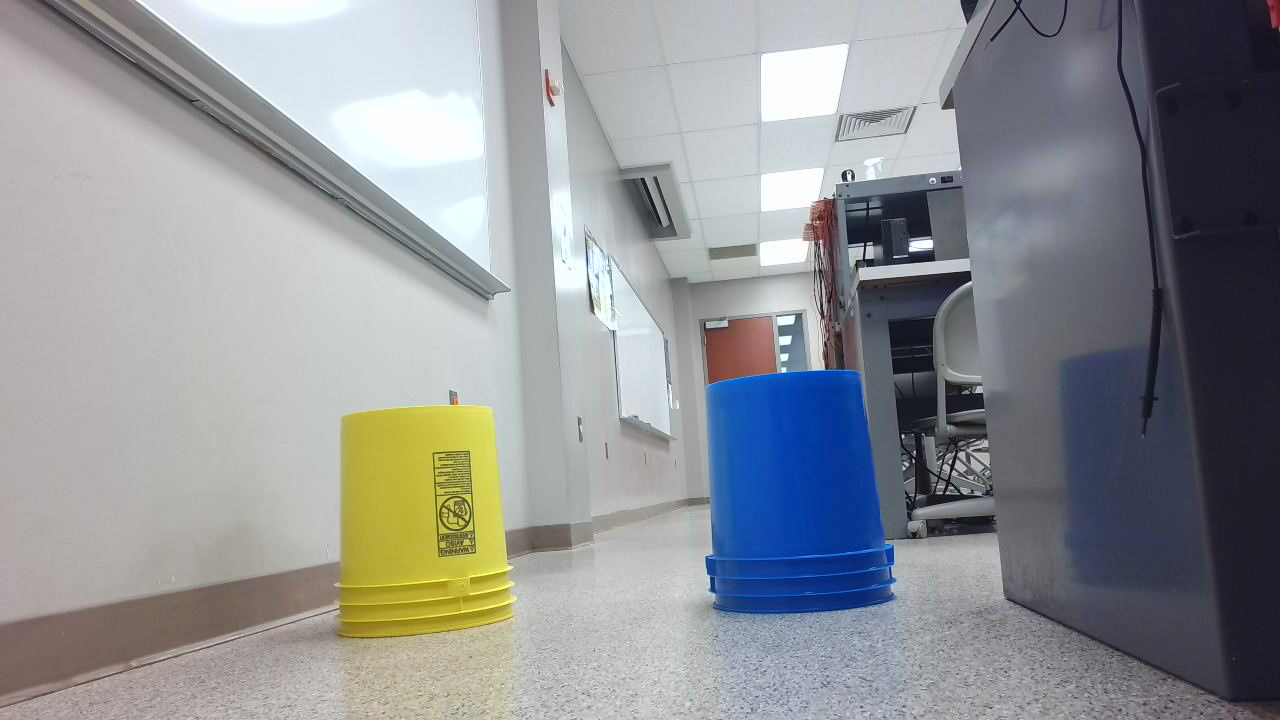blue_bucket: (702, 370, 909, 625)
yellow_bucket: (331, 406, 531, 649)
